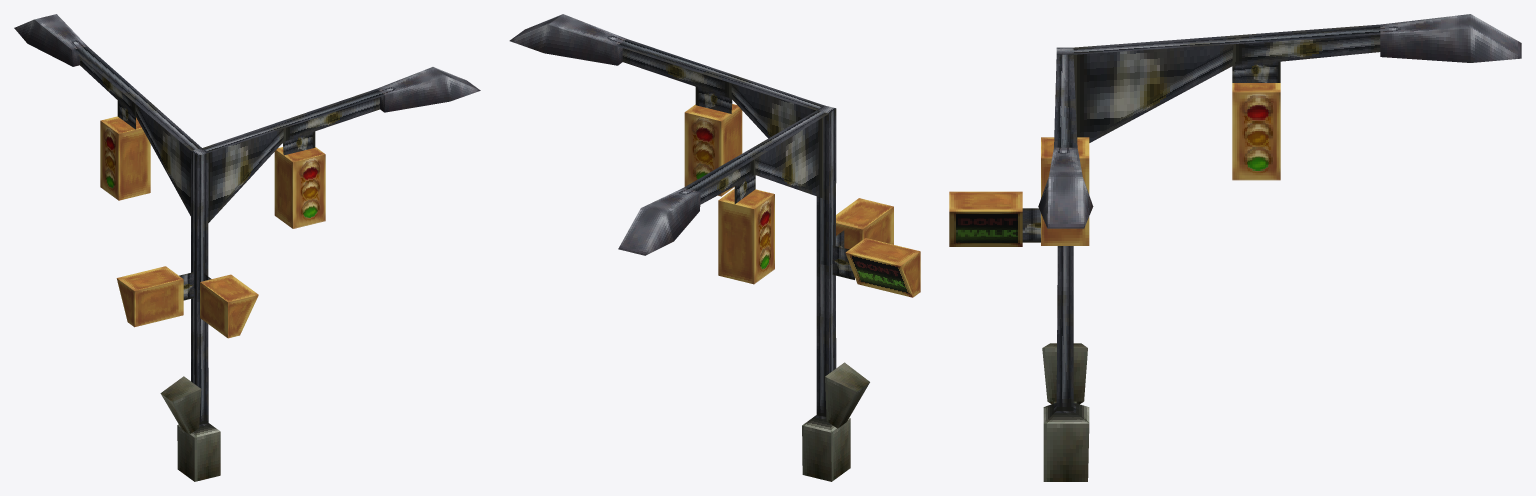
The picture shows the model from 3 angles, left to right: view 1: azimuth 30°, elevation 25°; view 2: azimuth 150°, elevation 25°; view 3: azimuth 270°, elevation 25°; orthographic projection. The views are drawn at different scales.
Parts seen in each view (by area): view 1: prim002-Line01.001; view 2: prim002-Line01.001; view 3: prim002-Line01.001.
Part boxes in pixels (x1,y1,x2,y2): prim002-Line01.001: (14, 14, 480, 481); prim002-Line01.001: (509, 14, 920, 481); prim002-Line01.001: (949, 14, 1521, 481).
Size of the model in its own units: 405 by 381 by 437.
Materials: 3 (3 with a texture image).
